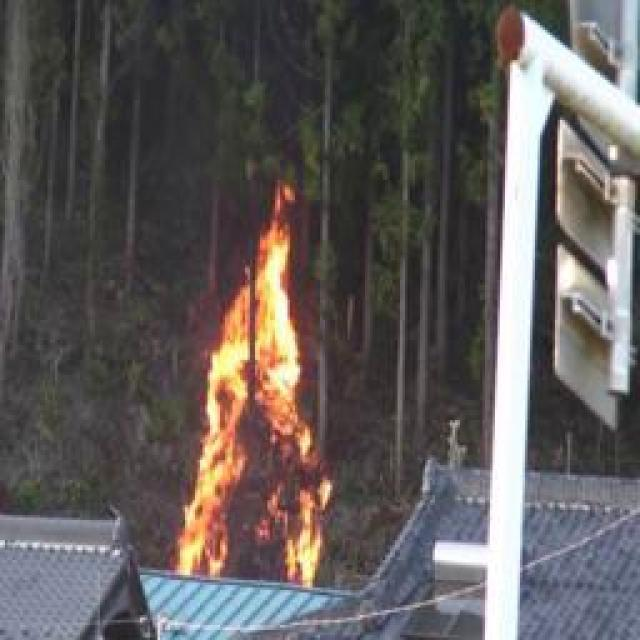Fire: (171, 208, 330, 585)
